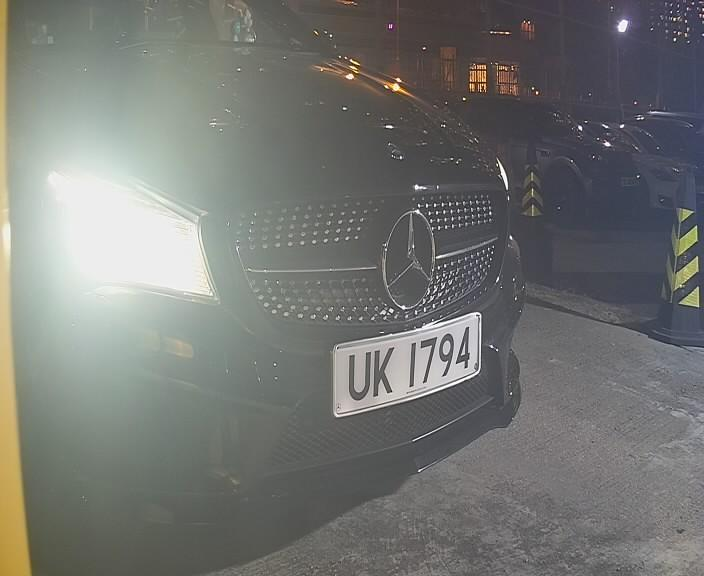privatecar: (26, 8, 525, 528)
